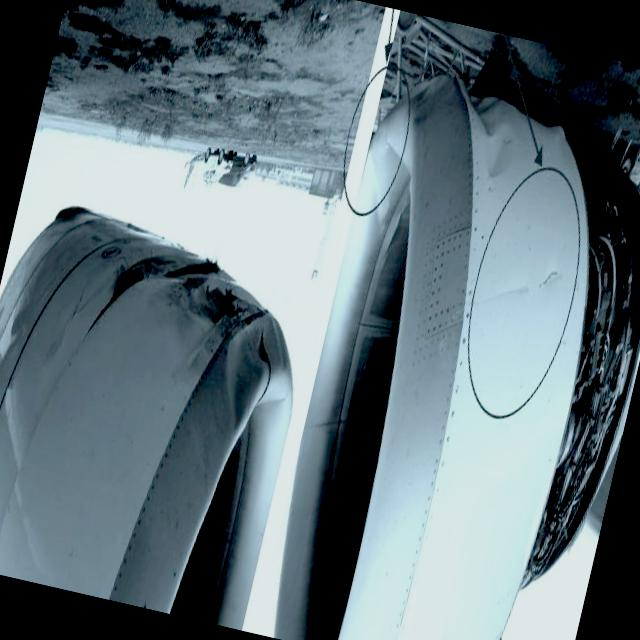crack: (538, 252, 568, 298)
dent: (442, 70, 534, 202)
